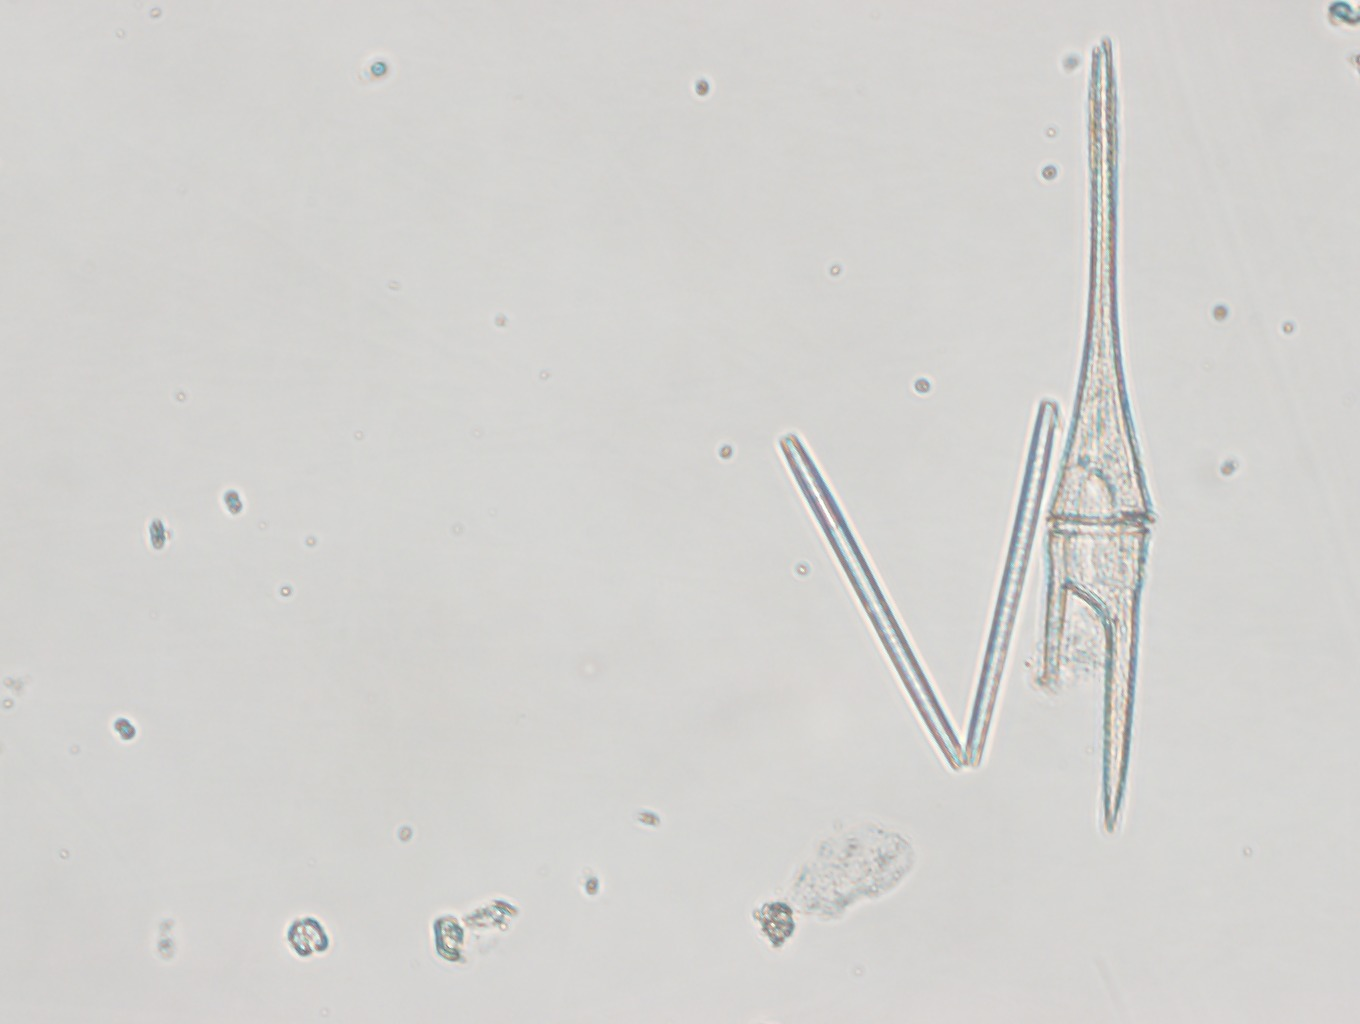ceratium furca: (1032, 32, 1157, 833)
thalassionema frauenfeldii: (777, 400, 1062, 770)
